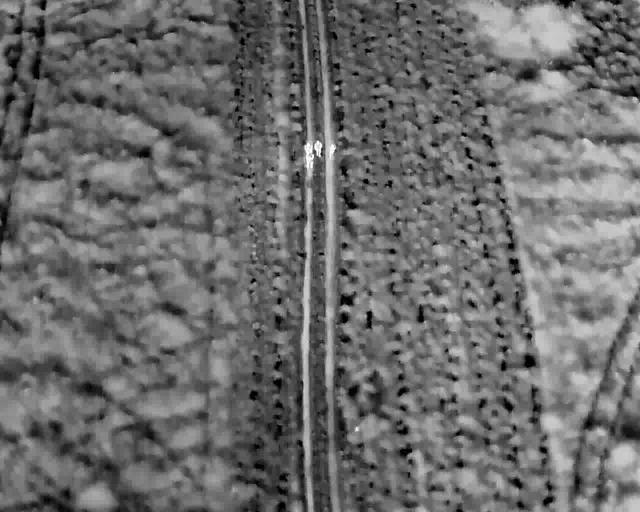person: (303, 152, 316, 171), (302, 140, 315, 158), (328, 141, 338, 160), (313, 138, 323, 157)
